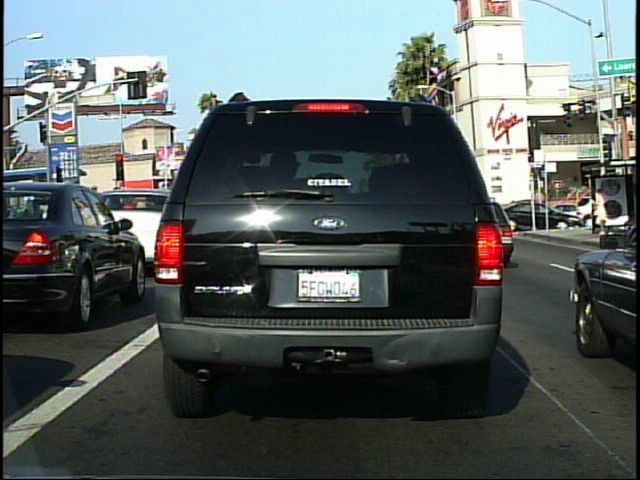person: (590, 183, 609, 237), (509, 198, 522, 227)
